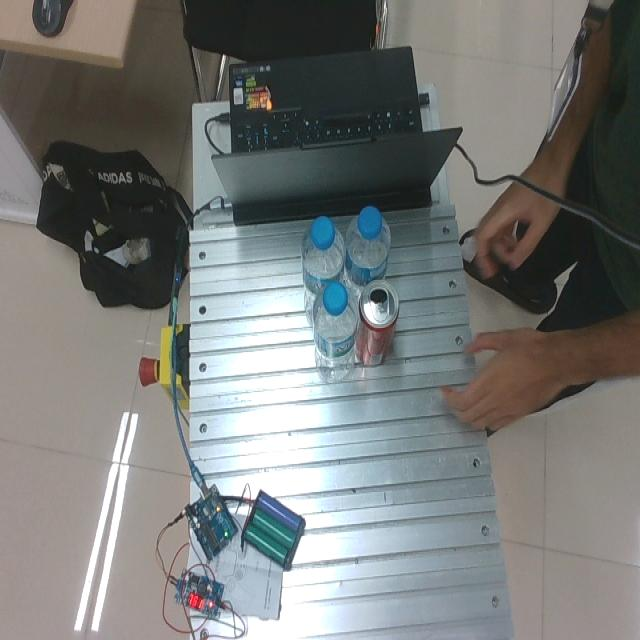coca: (354, 278, 399, 366)
lavie: (301, 215, 345, 326), (310, 280, 357, 383), (343, 205, 391, 295)
